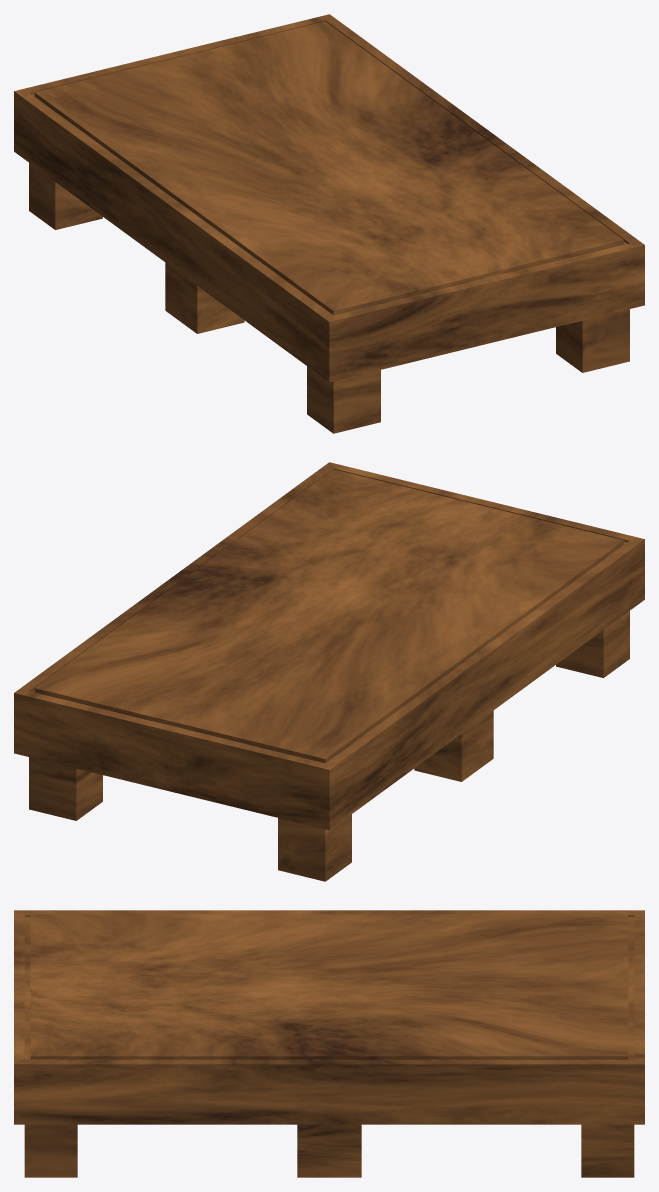
Rendered from LowTable .fbx.
3 renders of one model, top to bottom at view 1: azimuth 30°, elevation 25°; view 2: azimuth 150°, elevation 25°; view 3: azimuth 270°, elevation 25°, orthographic.
Visible parts, largest first — view 1: LowTable; view 2: LowTable; view 3: LowTable.
Part boxes in pixels (box(x1,y1,x2,y2)): LowTable: box(14, 14, 644, 433); LowTable: box(14, 462, 644, 881); LowTable: box(14, 910, 644, 1177).
Size of the model in its own units: 540 by 196 by 934.
